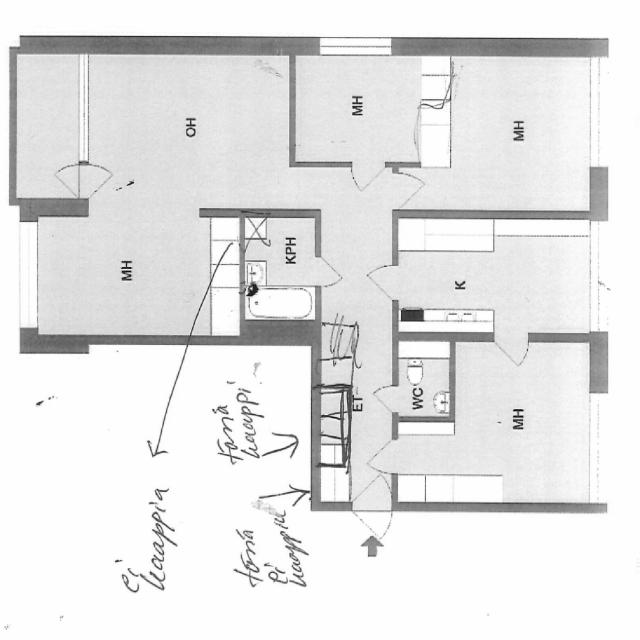door: (344, 474, 394, 544), (46, 162, 122, 200), (486, 329, 536, 368), (386, 164, 425, 210), (337, 156, 388, 190), (362, 438, 402, 478), (371, 381, 408, 421), (369, 258, 399, 305), (308, 248, 338, 284)
window: (6, 214, 51, 337), (582, 376, 618, 508), (586, 47, 620, 173), (302, 26, 408, 66), (67, 54, 100, 169), (586, 203, 613, 342)
zone: (394, 333, 588, 507), (82, 55, 294, 212), (394, 211, 606, 344), (28, 209, 238, 340), (444, 52, 597, 216), (296, 53, 446, 169), (238, 211, 319, 322), (388, 338, 453, 423)
